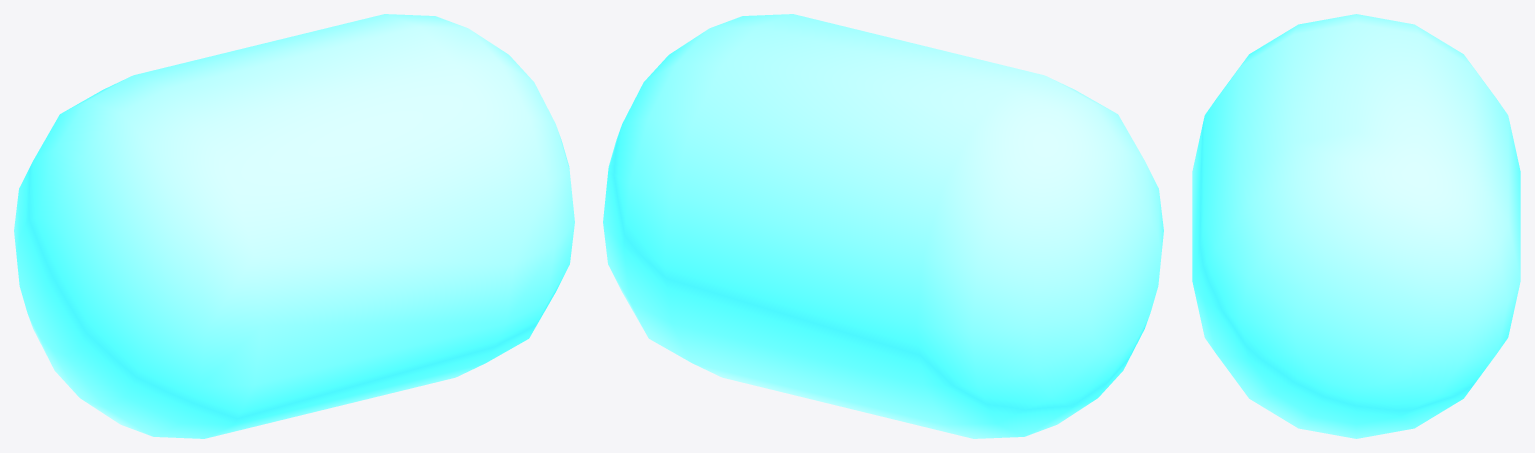
Rendered from grenade.glb.
3 views of the same model, side by side, from view 1: azimuth 30°, elevation 25°; view 2: azimuth 150°, elevation 25°; view 3: azimuth 270°, elevation 25° (orthographic). The views are drawn at different scales.
Visible parts, largest first — view 1: grenade_color; view 2: grenade_color; view 3: grenade_color.
Part boxes in pixels (x1,y1,x2,y2): grenade_color: (14,14,574,438); grenade_color: (603,14,1163,438); grenade_color: (1192,14,1520,438).
Size of the model in its own units: 12.33 by 8 by 8.
